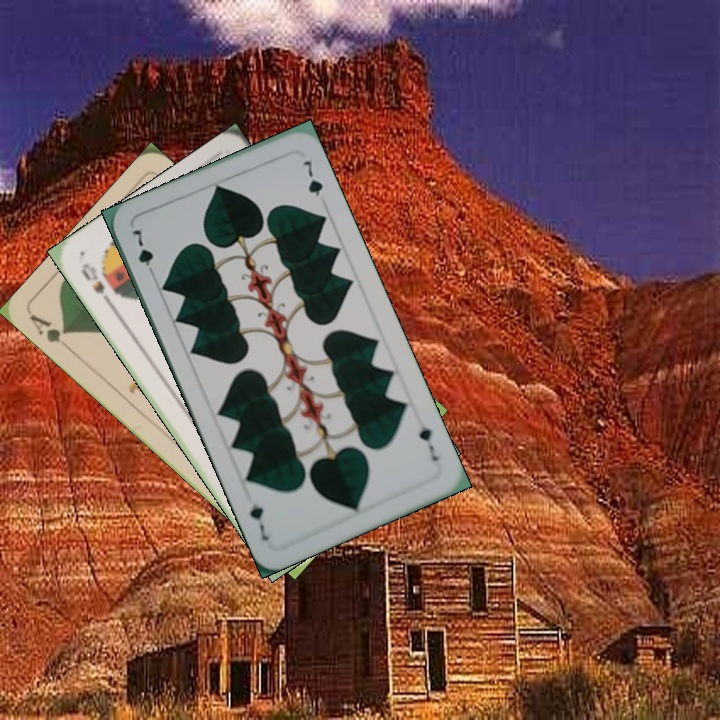G7: (127, 224, 158, 280), (415, 415, 441, 464)
GA: (26, 310, 74, 355)
SO: (77, 258, 116, 309)
